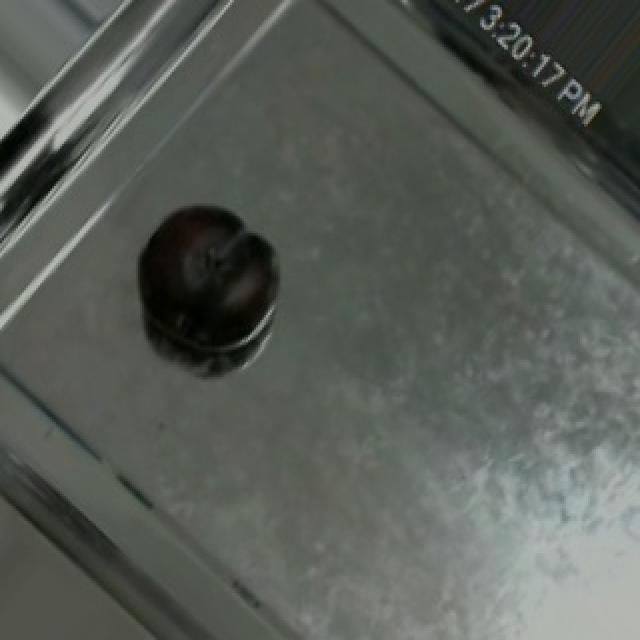Fruit: (116, 181, 292, 367)
